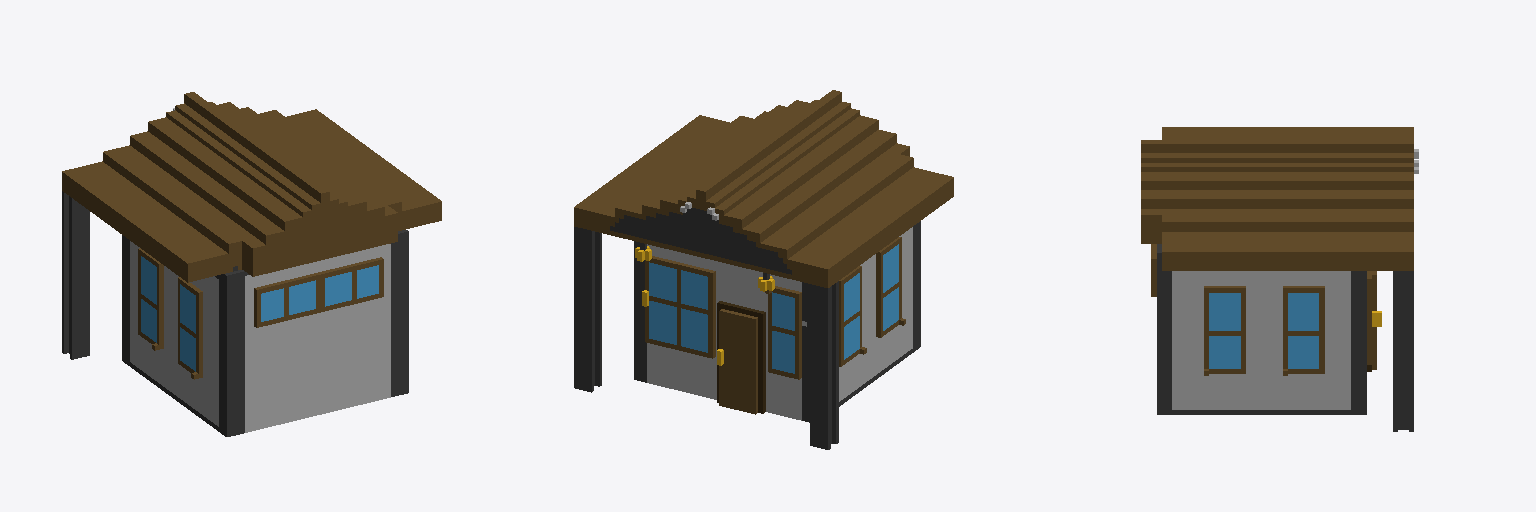
3 views of the same model, side by side, from view 1: azimuth 30°, elevation 25°; view 2: azimuth 150°, elevation 25°; view 3: azimuth 270°, elevation 25° (orthographic).
Visible parts, largest first — view 1: Model; view 2: Model; view 3: Model.
Boxes of the visible parts, box(x1,y1,x2,y2) form: Model: box(62, 92, 441, 436); Model: box(574, 90, 953, 449); Model: box(1141, 127, 1418, 431).
Size of the model in its own units: 56 by 48 by 53.
1 materials, 1 textured.